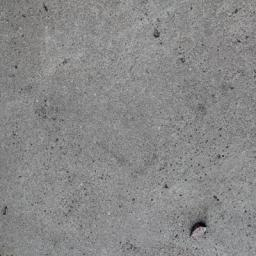FOD: (186, 222, 212, 240)
